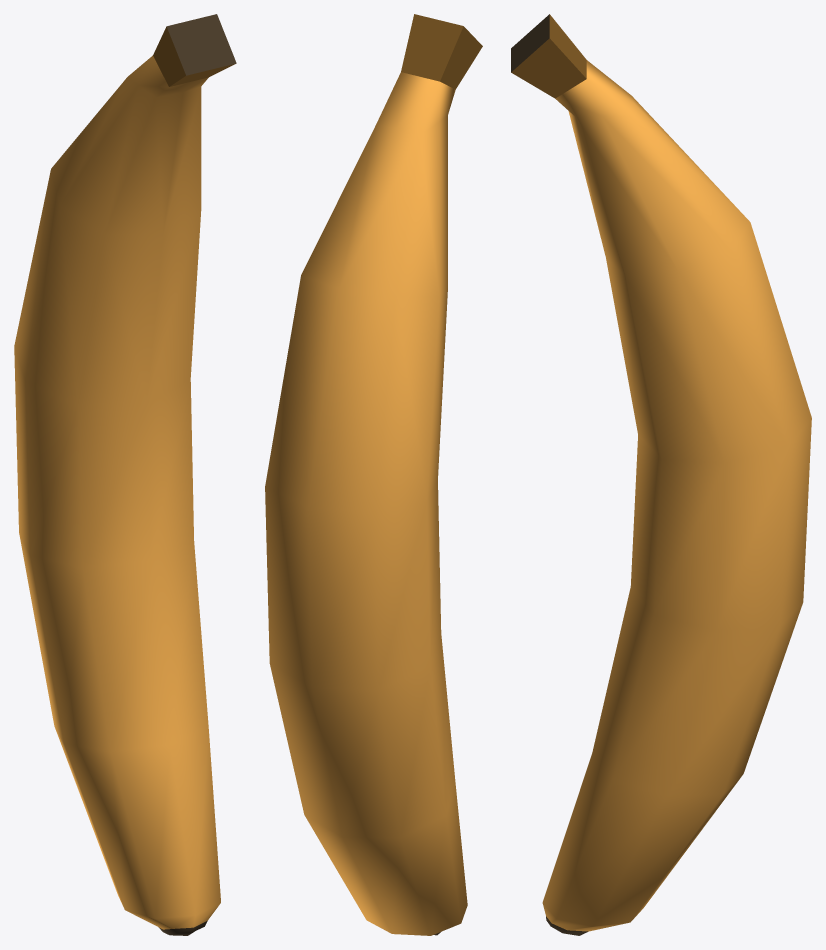
The model's file is Fruit_Banana_B.fbx.
The picture shows the model from 3 angles, left to right: view 1: azimuth 30°, elevation 25°; view 2: azimuth 150°, elevation 25°; view 3: azimuth 270°, elevation 25°; orthographic projection. The views are drawn at different scales.
Parts seen in each view (by area): view 1: Fruit_Banana B; view 2: Fruit_Banana B; view 3: Fruit_Banana B.
Boxes of the visible parts, x1,y1,x2,y2 form: Fruit_Banana B: (14,14,236,935); Fruit_Banana B: (265,14,482,935); Fruit_Banana B: (511,14,811,935).
Bounding box in the file's own units: 4.49 × 25.63 × 7.72.
